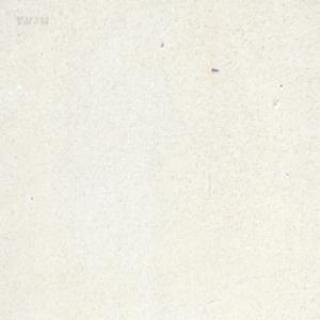Nailtrack_idkeyframe: (210, 67, 218, 72)
